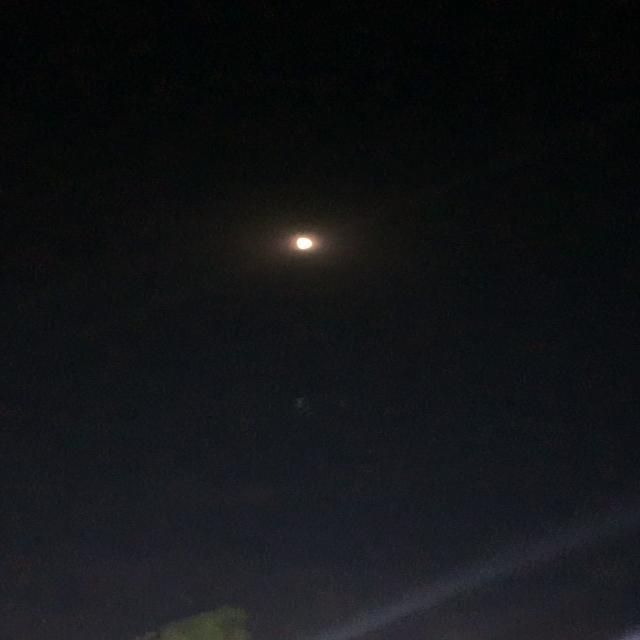moon: (280, 226, 332, 256)
